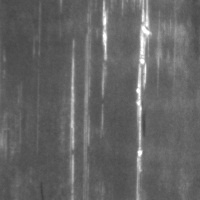scratches: (132, 0, 154, 199), (64, 39, 82, 199), (95, 0, 113, 130)
